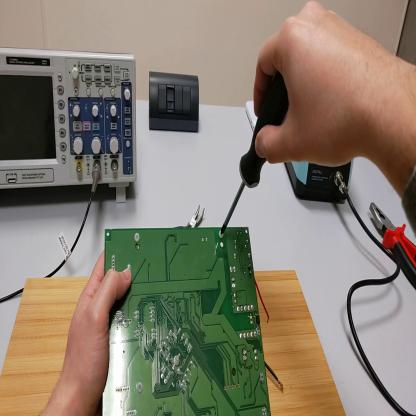hand: (251, 8, 381, 171), (61, 251, 132, 416)
low voltage board: (102, 228, 283, 416)
oscilloscope: (2, 50, 138, 206)
pliers: (370, 204, 416, 288), (190, 206, 207, 225)
screwdriver-: (221, 72, 290, 235)
welder station: (286, 162, 354, 205)
working area: (1, 270, 345, 415)
